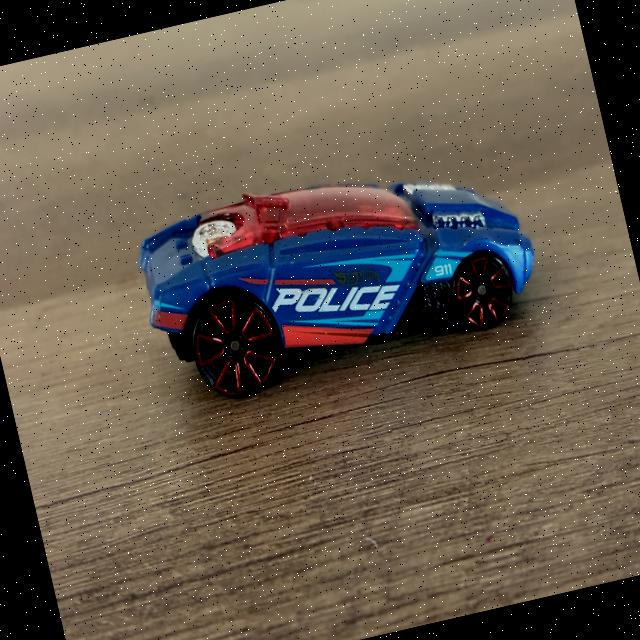cars: (139, 182, 533, 397)
